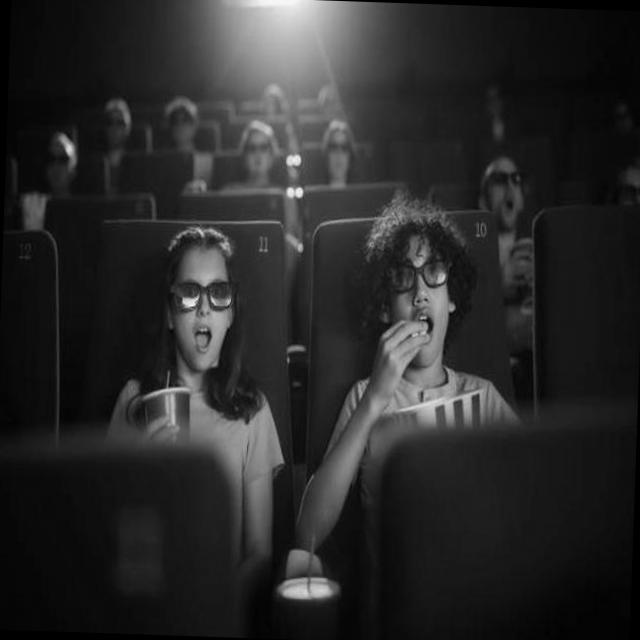Surprised: (382, 234, 456, 371), (172, 244, 235, 373)
